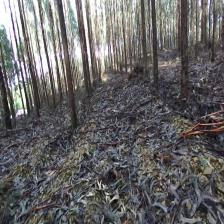trunk: (59, 18, 78, 128), (25, 43, 40, 117), (42, 35, 56, 108), (77, 21, 89, 95), (181, 0, 188, 100), (151, 3, 159, 83), (140, 9, 146, 67), (194, 10, 200, 56)
